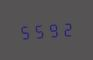five: (18, 21, 31, 41), (32, 20, 45, 40)
nine: (46, 20, 59, 39)
two: (60, 19, 73, 38)
